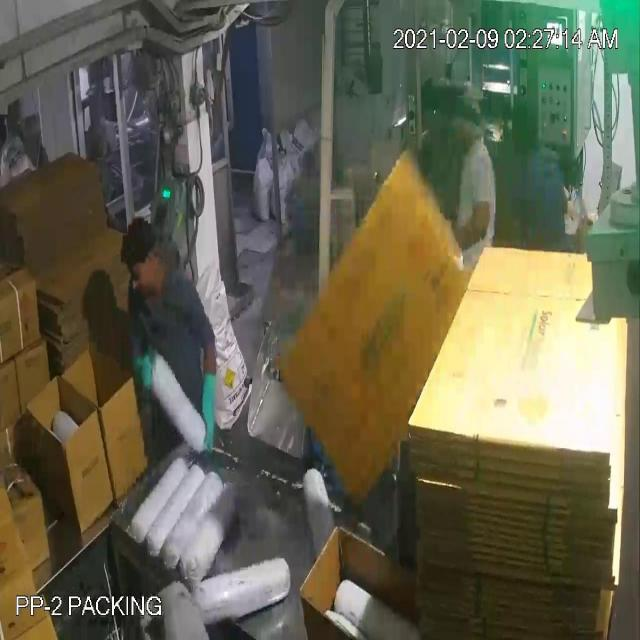Gloves: (34, 57, 208, 408)
